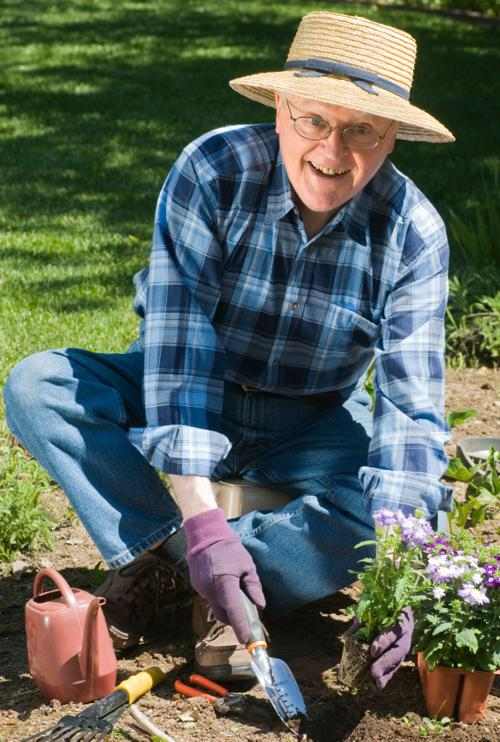person: (2, 8, 453, 692)
